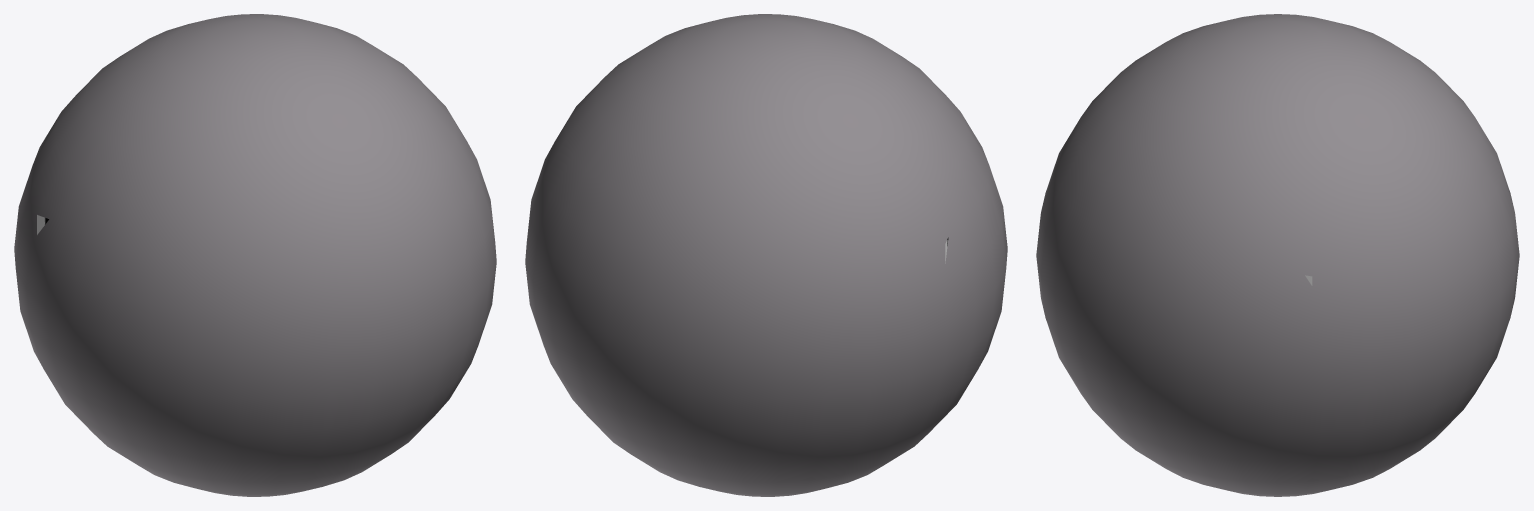
3 views of the same model, side by side, from view 1: azimuth 30°, elevation 25°; view 2: azimuth 150°, elevation 25°; view 3: azimuth 270°, elevation 25° (orthographic).
Parts seen in each view (by area): view 1: Sphere; view 2: Sphere; view 3: Sphere.
Boxes of the visible parts, left/top/right/bottom form: Sphere: left=14, top=14, right=496, bottom=496; Sphere: left=525, top=14, right=1007, bottom=496; Sphere: left=1036, top=14, right=1519, bottom=496.
Size of the model in its own units: 428 by 428 by 428.
